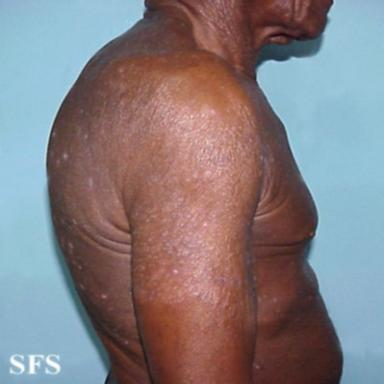Tinea-Corporis: (48, 16, 274, 336)
